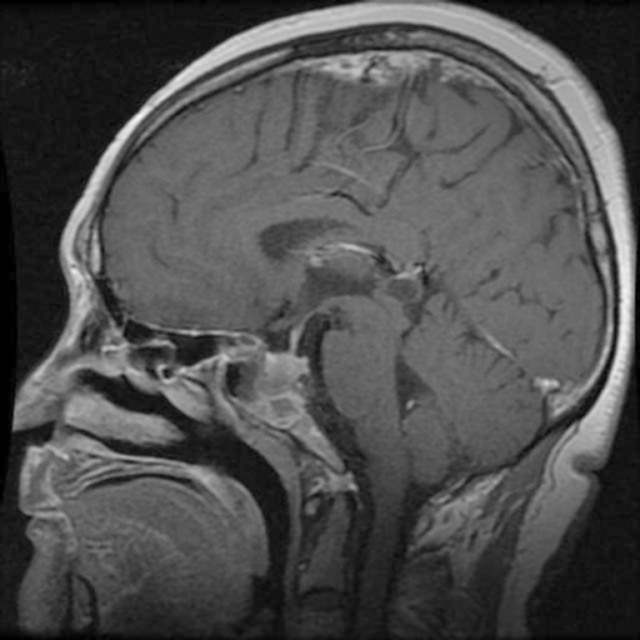no tumor: (256, 342, 305, 426)
